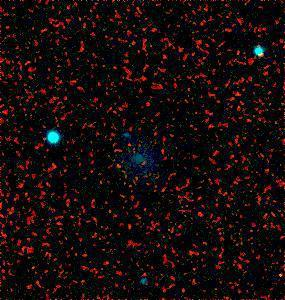star: (97, 153, 127, 183)
